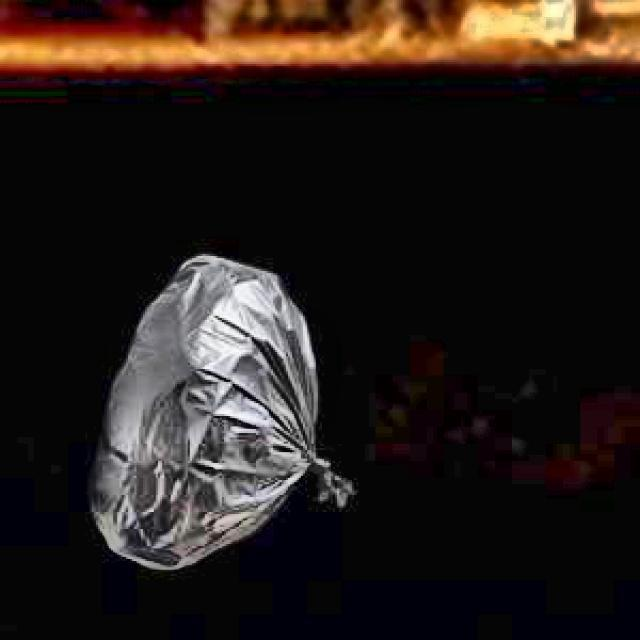Trashbag: (85, 250, 358, 576)
